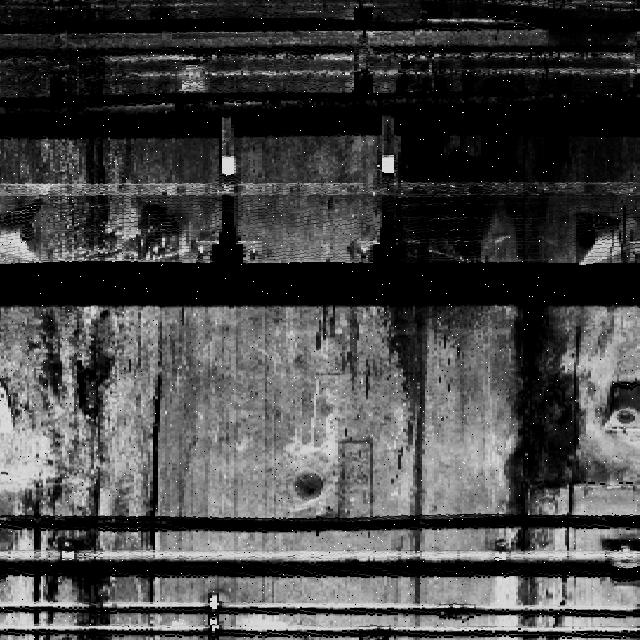leakage: (486, 2, 637, 640), (0, 305, 161, 640), (378, 122, 488, 537), (0, 136, 182, 263)
